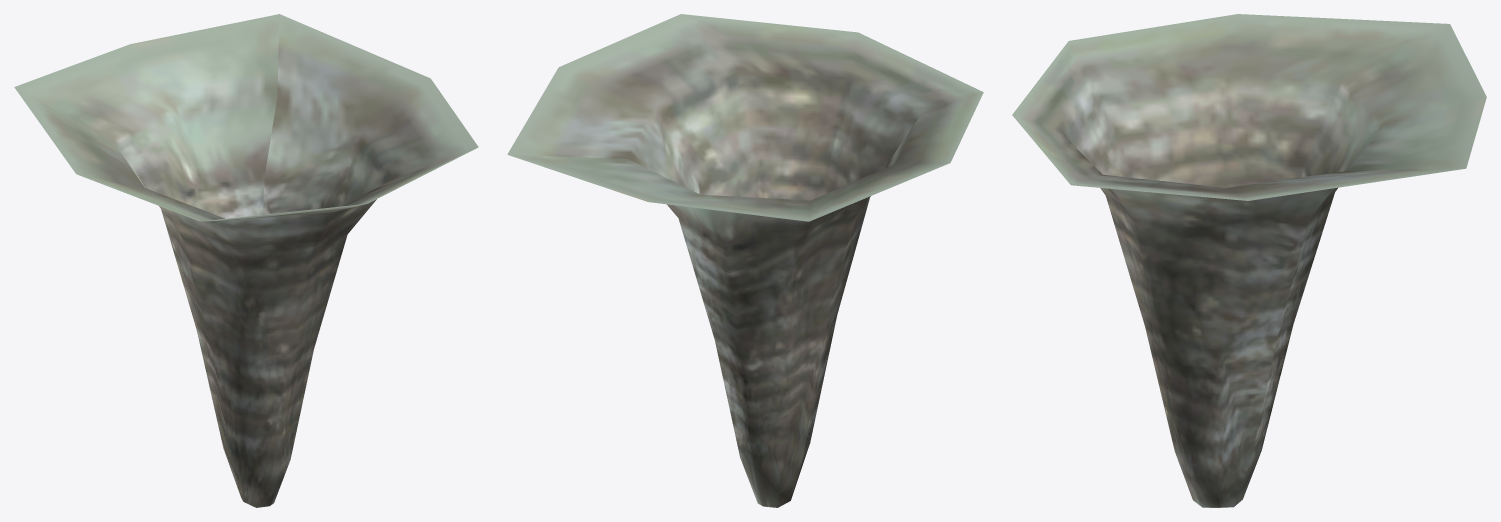
File: TROLLHOLE02_PS-MAINSTALAG92.fbx
The picture shows the model from 3 angles, left to right: view 1: azimuth 30°, elevation 25°; view 2: azimuth 150°, elevation 25°; view 3: azimuth 270°, elevation 25°; orthographic projection. The views are drawn at different scales.
Parts seen in each view (by area): view 1: TROLLHOLE02_PS-MAINSTALAG92; view 2: TROLLHOLE02_PS-MAINSTALAG92; view 3: TROLLHOLE02_PS-MAINSTALAG92.
Part boxes in pixels (left/top/right/bottom): TROLLHOLE02_PS-MAINSTALAG92: left=14, top=14, right=478, bottom=507; TROLLHOLE02_PS-MAINSTALAG92: left=507, top=14, right=983, bottom=507; TROLLHOLE02_PS-MAINSTALAG92: left=1012, top=14, right=1486, bottom=507.
Bounding box in the file's own units: 26401 × 26373 × 27567.
Materials: 1 (1 with a texture image).
